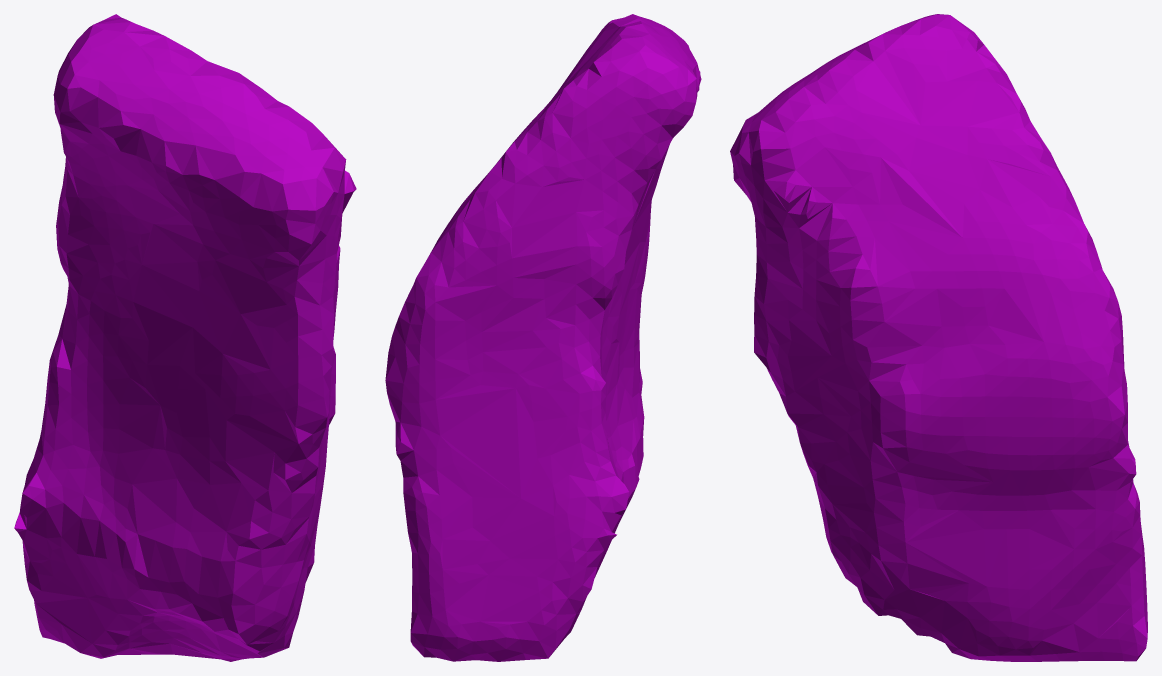
The model's file is Model_10046_LH__Area_13b_of_cortex_(A13b).obj.
3 views of the same model, side by side, from view 1: azimuth 30°, elevation 25°; view 2: azimuth 150°, elevation 25°; view 3: azimuth 270°, elevation 25° (orthographic). The views are drawn at different scales.
Bounding box in the file's own units: 1.17 × 2.91 × 1.88.
